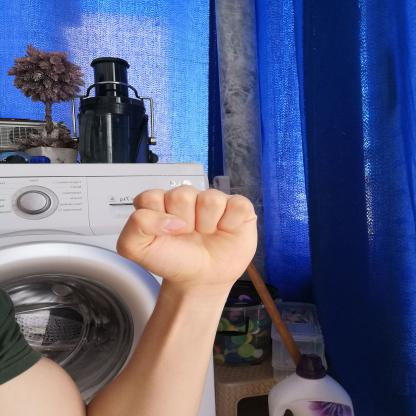SAD: (105, 175, 276, 291)
